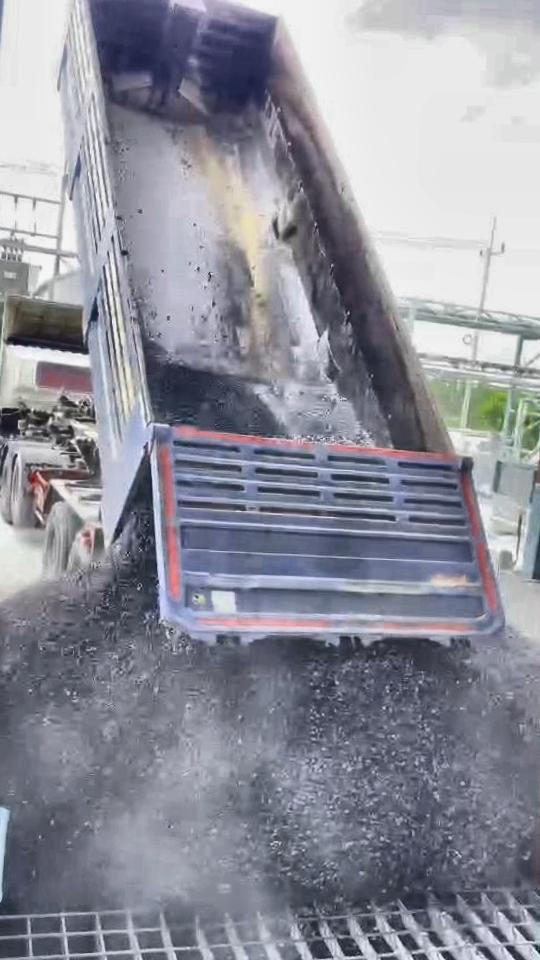gravel: (0, 561, 540, 910), (152, 350, 281, 435)
